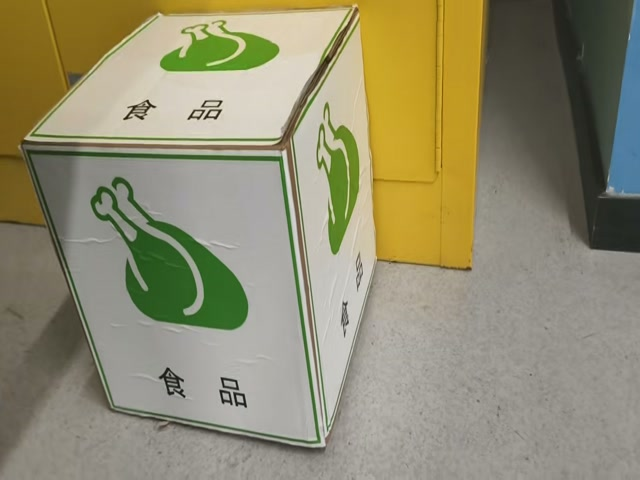Cube_food: (23, 7, 358, 160)
